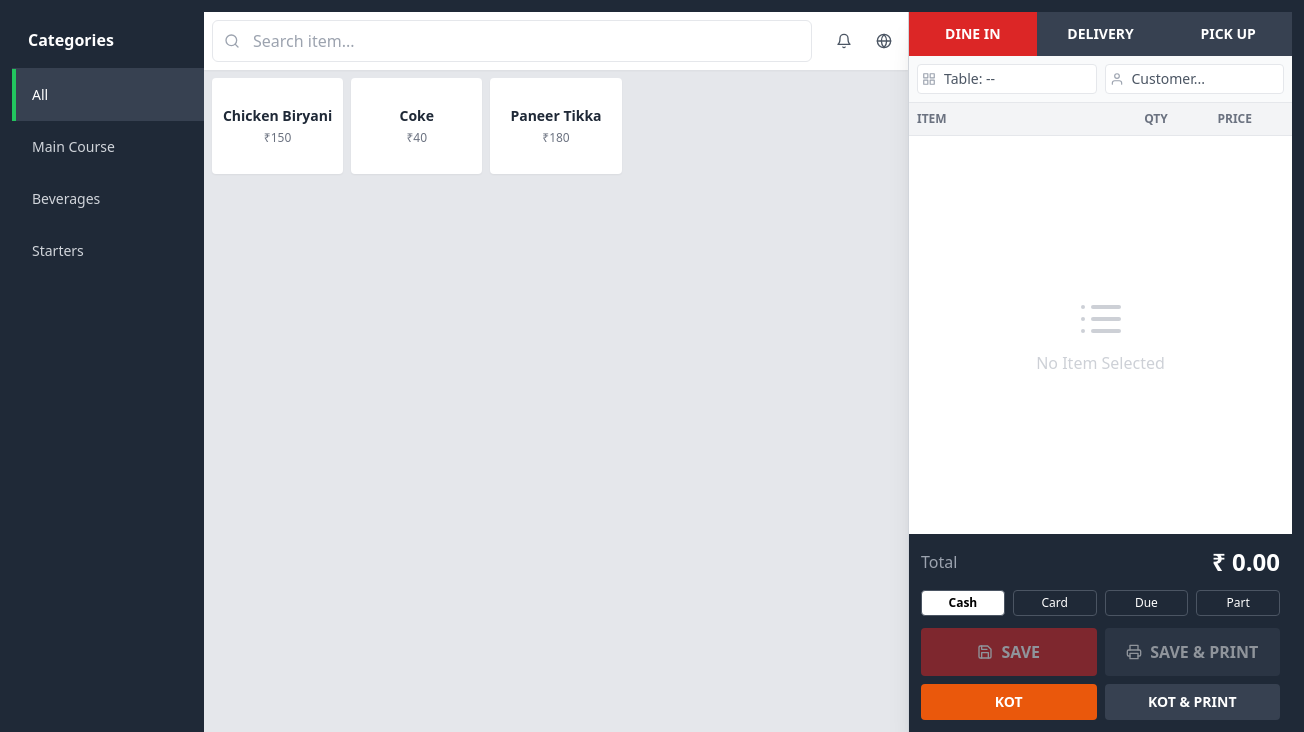
it: POS Component › adds items to cart
Expected: the text "Chicken Biryani" is shown, x1=223 y1=106 x2=332 y2=126
Click the button "Chicken Biryani ₹150".
click(278, 126)  # box x1=212 y1=78 x2=343 y2=174
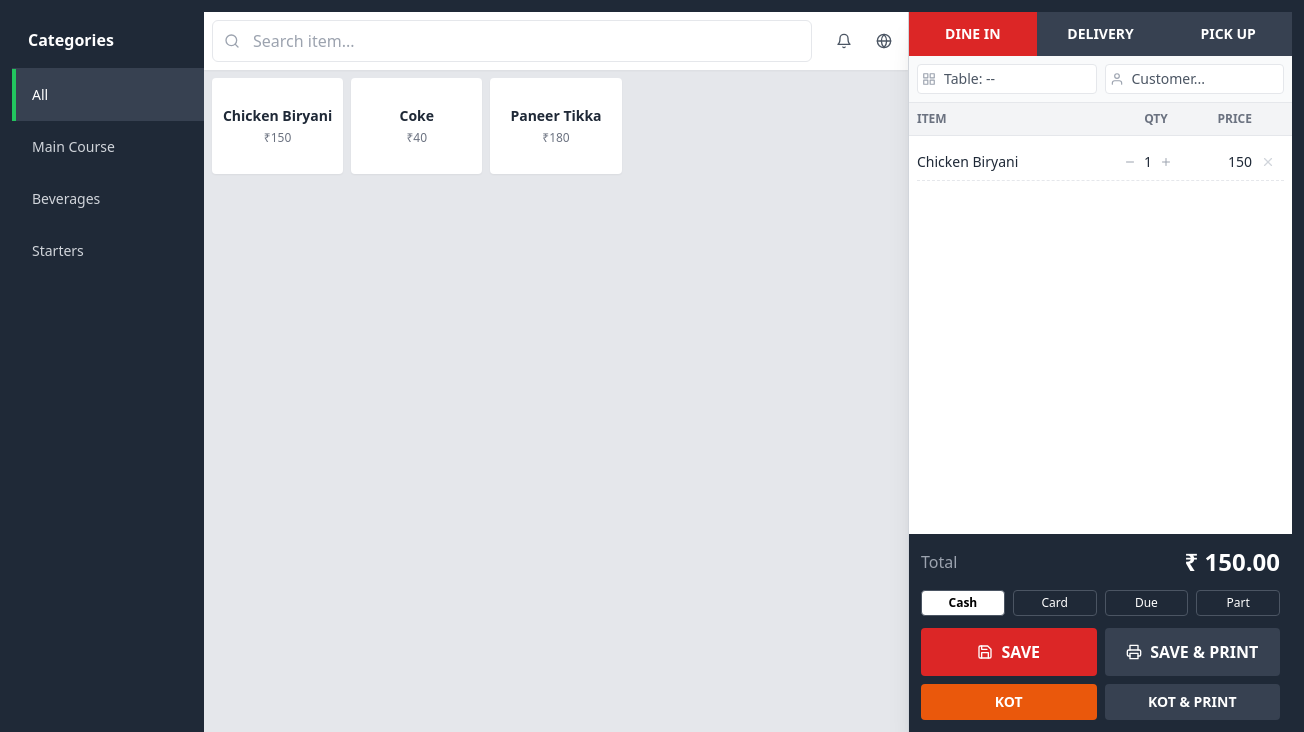
Result: the text "Chicken Biryani" below "ITEM" is shown at x1=917 y1=152 x2=1018 y2=171
Result: the text "150" is shown at x1=1228 y1=152 x2=1252 y2=171
